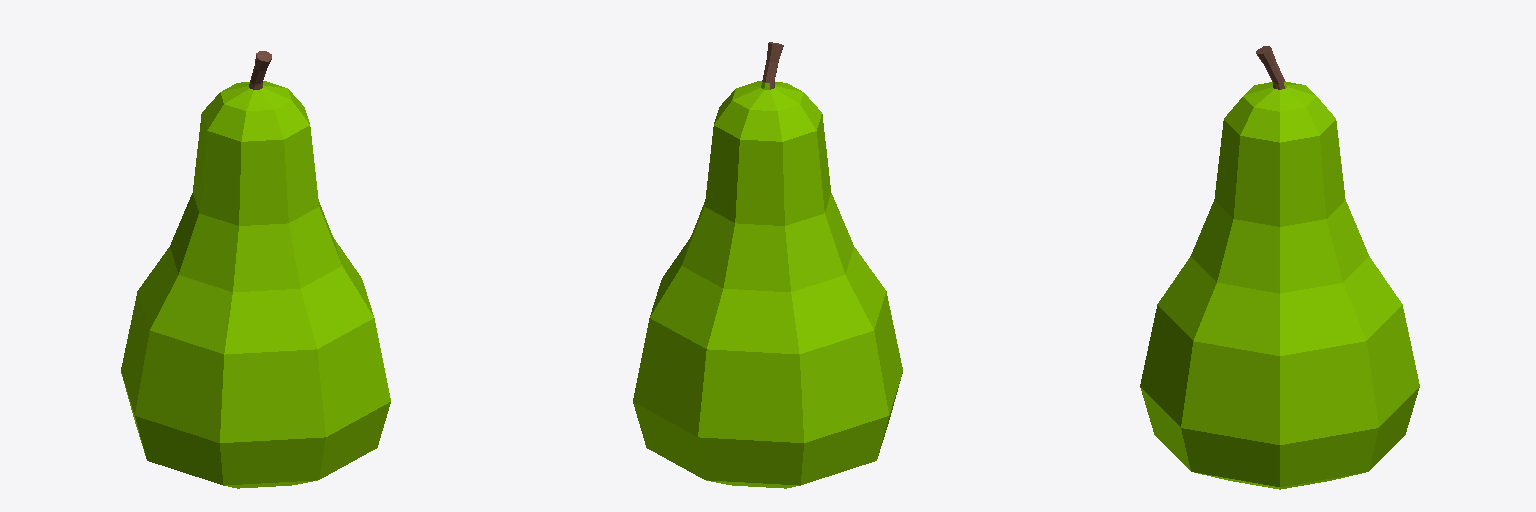
Rendered from PeraVariante.obj.
3 views of the same model, side by side, from view 1: azimuth 30°, elevation 25°; view 2: azimuth 150°, elevation 25°; view 3: azimuth 270°, elevation 25° (orthographic).
Parts seen in each view (by area): view 1: pear_Circle.002; view 2: pear_Circle.002; view 3: pear_Circle.002.
Part boxes in pixels (x1,y1,x2,y2): pear_Circle.002: (121, 51, 390, 488); pear_Circle.002: (633, 42, 902, 488); pear_Circle.002: (1140, 46, 1419, 489).
Size of the model in its own units: 7.69 by 12.64 by 7.69.